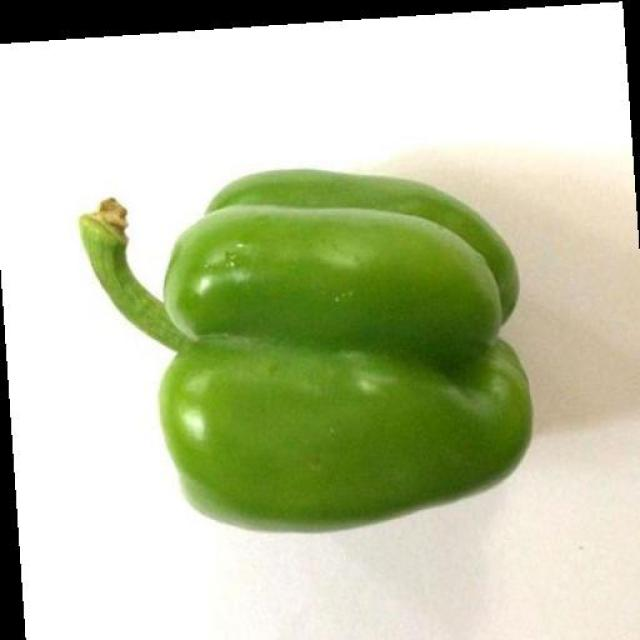Fresh_Capsicum: (71, 179, 546, 497)
